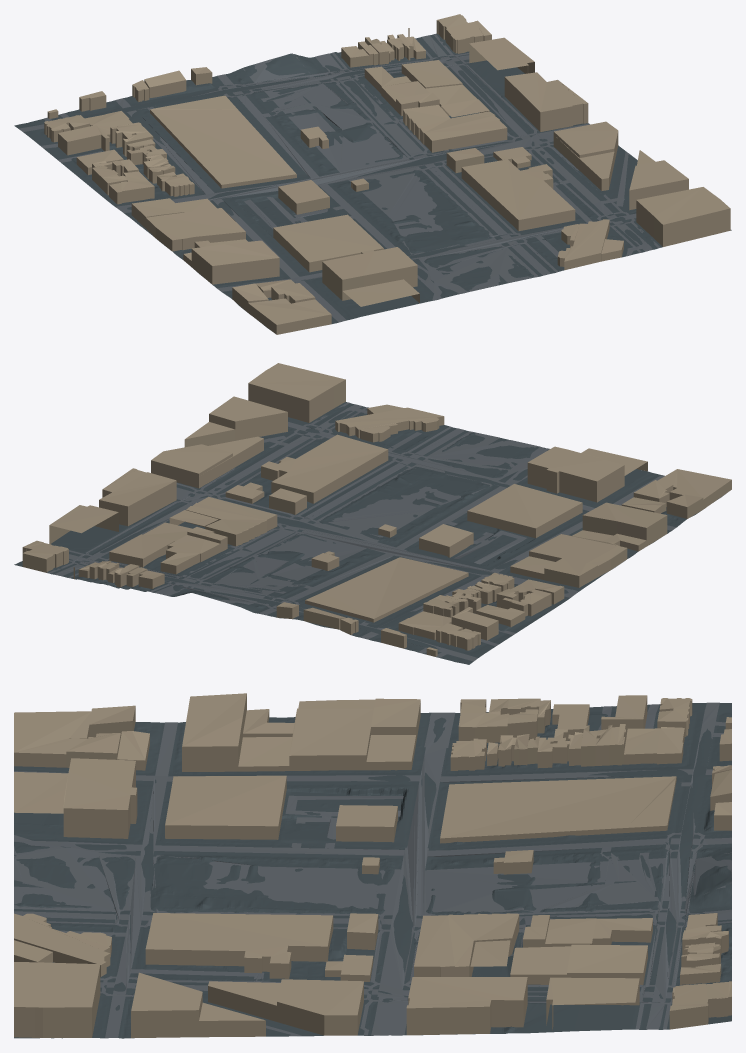
File: epsg26910-1438-10885.lod0.glb
3 views of the same model, one above another, from view 1: azimuth 30°, elevation 25°; view 2: azimuth 150°, elevation 25°; view 3: azimuth 270°, elevation 25° (orthographic). The views are drawn at different scales.
Parts seen in each view (by area): view 1: epsg26910-1438-10885-lod0; view 2: epsg26910-1438-10885-lod0; view 3: epsg26910-1438-10885-lod0.
Part boxes in pixels (x1,y1,x2,y2): epsg26910-1438-10885-lod0: (14, 14, 731, 334); epsg26910-1438-10885-lod0: (14, 363, 731, 664); epsg26910-1438-10885-lod0: (14, 693, 731, 1038).
Size of the model in its own units: 384 by 31.15 by 384.
